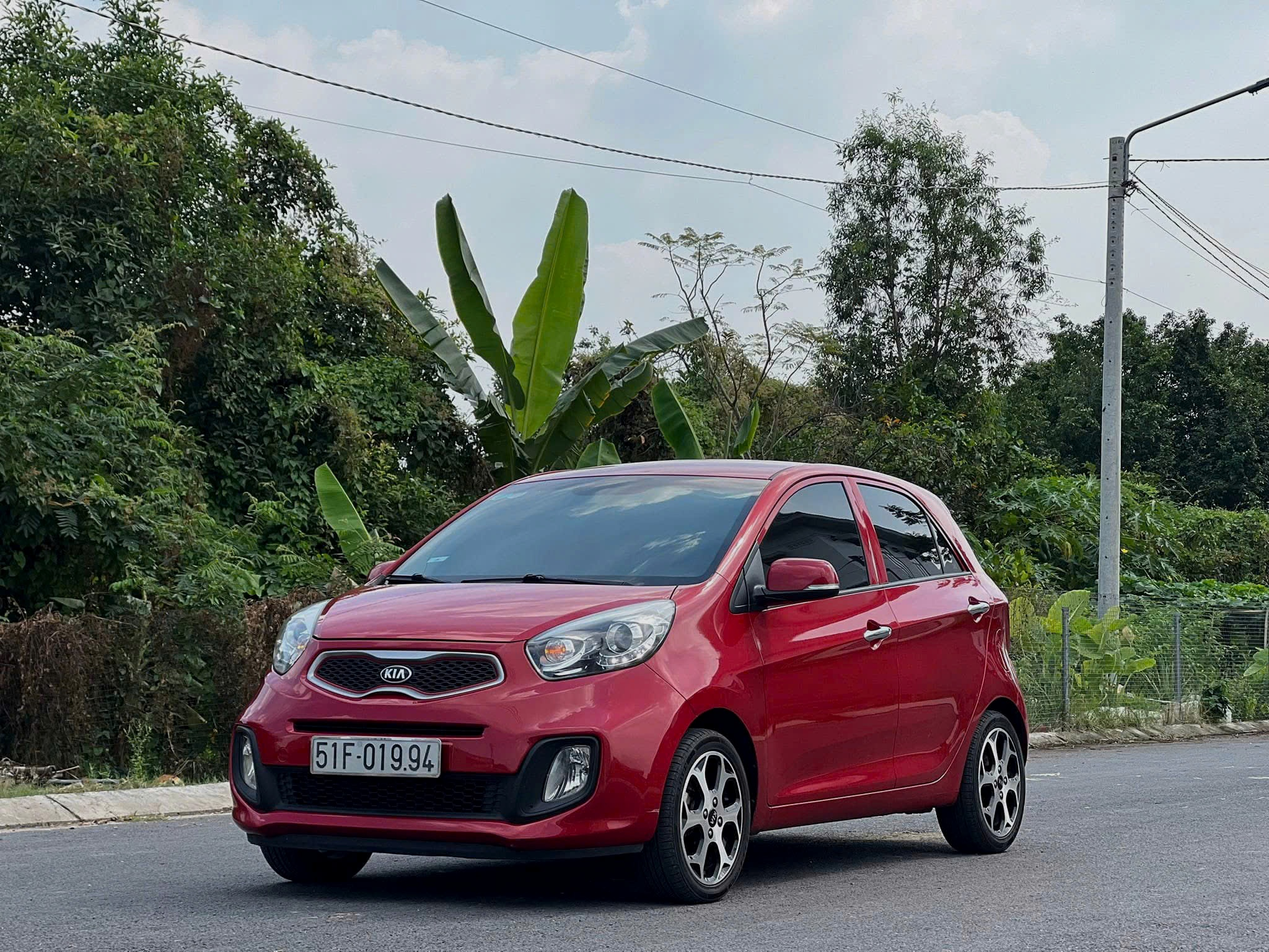Bien-so: (352, 729, 483, 791)
